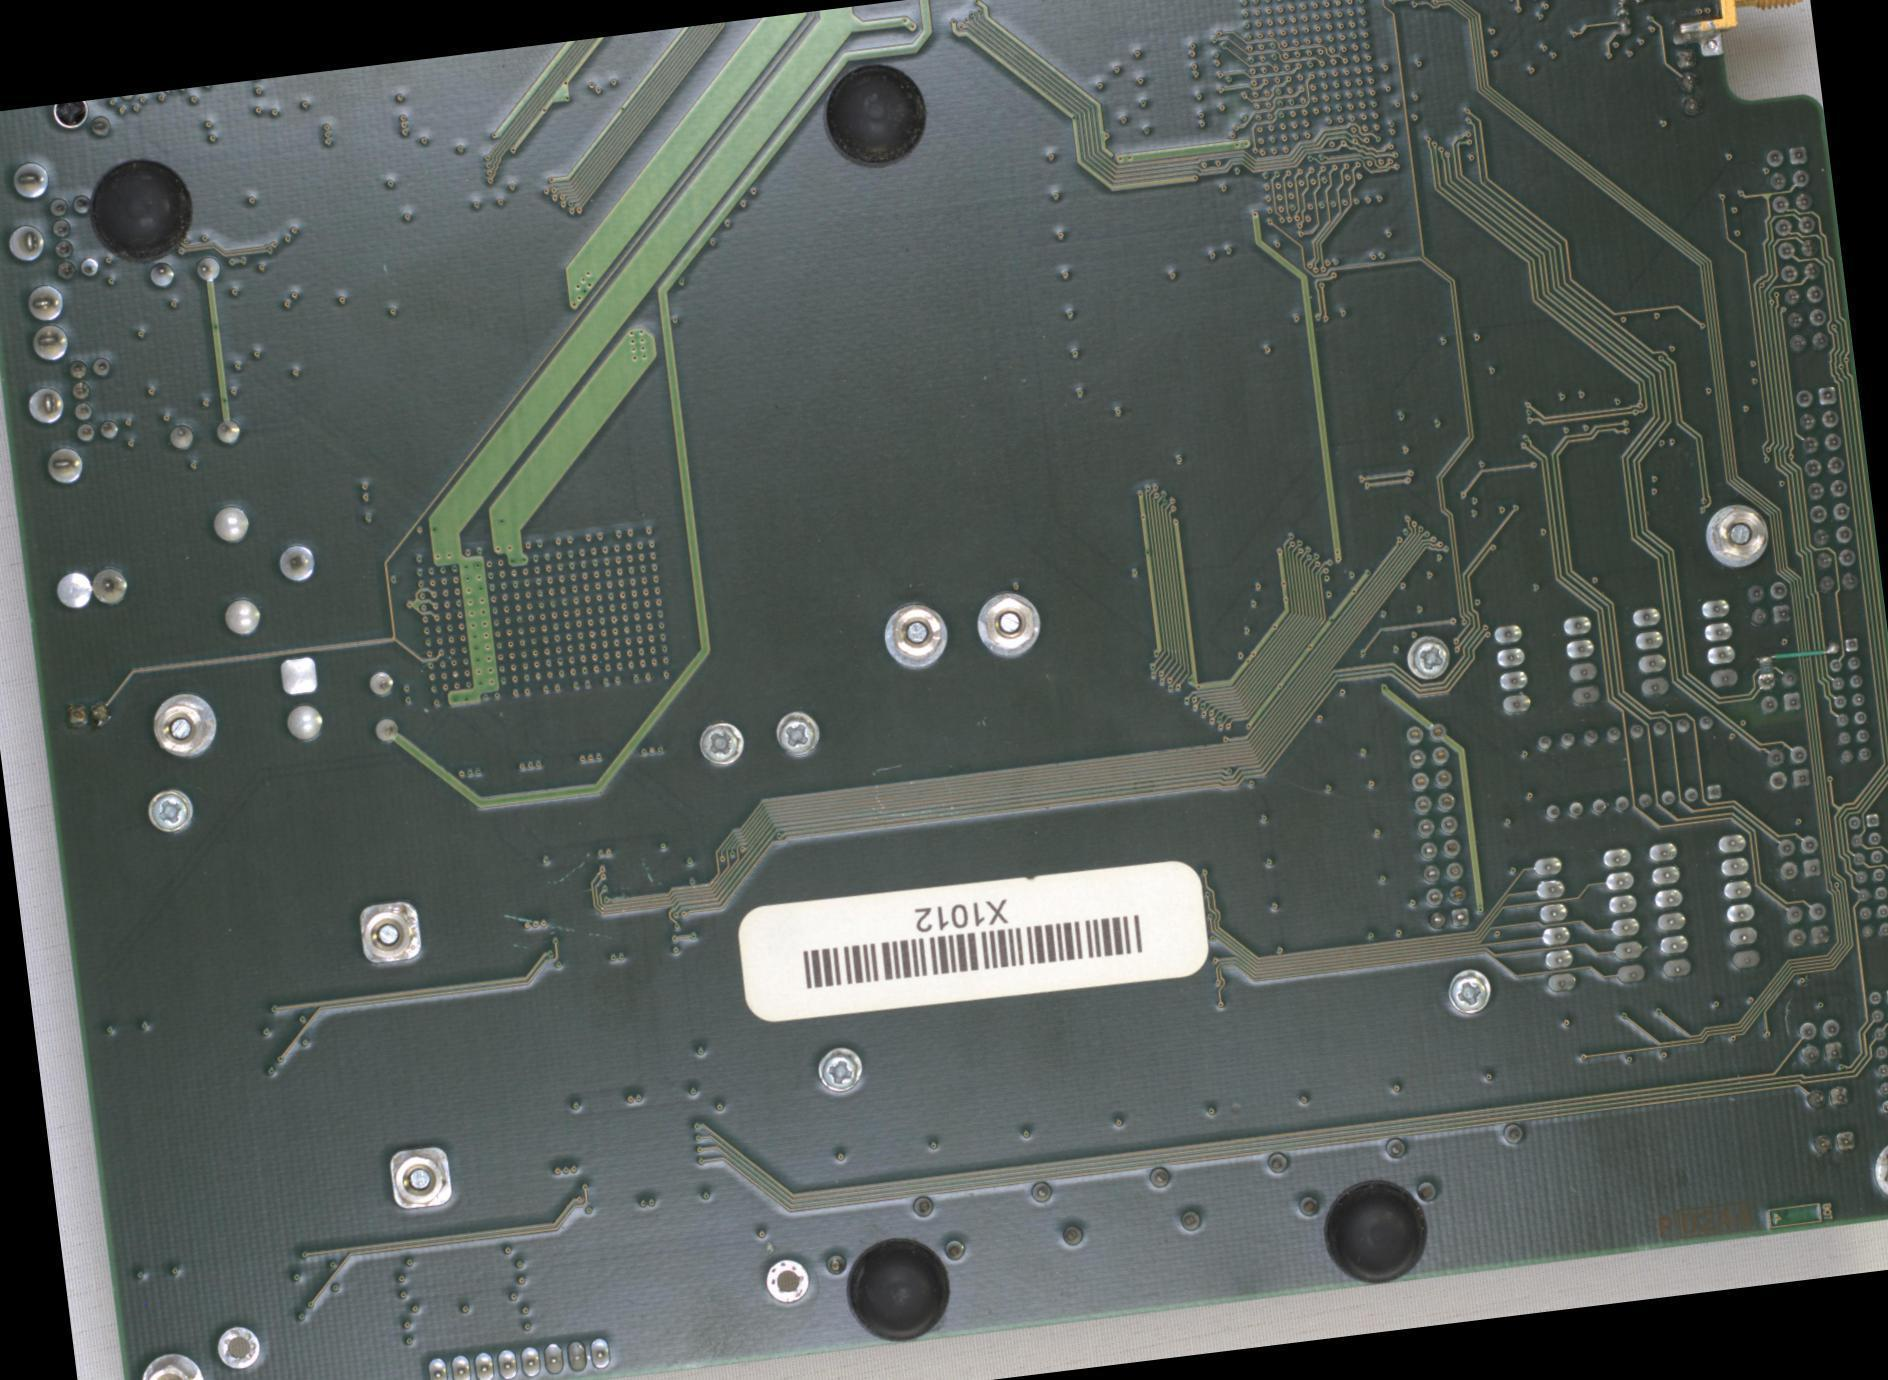Connector: (1654, 0, 1813, 64)
Pins: (810, 1118, 1540, 1281), (0, 156, 89, 497), (1528, 708, 1732, 825), (145, 251, 243, 453), (205, 491, 323, 638), (1790, 382, 1862, 596), (1401, 718, 1472, 933), (1762, 142, 1833, 355), (1601, 838, 1696, 987), (1626, 594, 1742, 699), (1488, 611, 1604, 716), (416, 1329, 617, 1379), (1717, 829, 1769, 971), (1531, 854, 1580, 994), (1823, 634, 1874, 767), (270, 647, 330, 749), (64, 353, 125, 446), (1844, 810, 1887, 940), (46, 556, 136, 616), (44, 190, 103, 281), (1802, 1081, 1858, 1156), (363, 662, 409, 747), (1862, 984, 1887, 1118), (1742, 577, 1794, 627), (1782, 900, 1832, 950), (1796, 1016, 1846, 1066), (1756, 664, 1805, 714), (1763, 742, 1813, 790), (1776, 832, 1826, 880), (1673, 46, 1704, 116), (86, 110, 114, 138)
Resistor: (1759, 653, 1775, 678), (1615, 0, 1640, 5)
